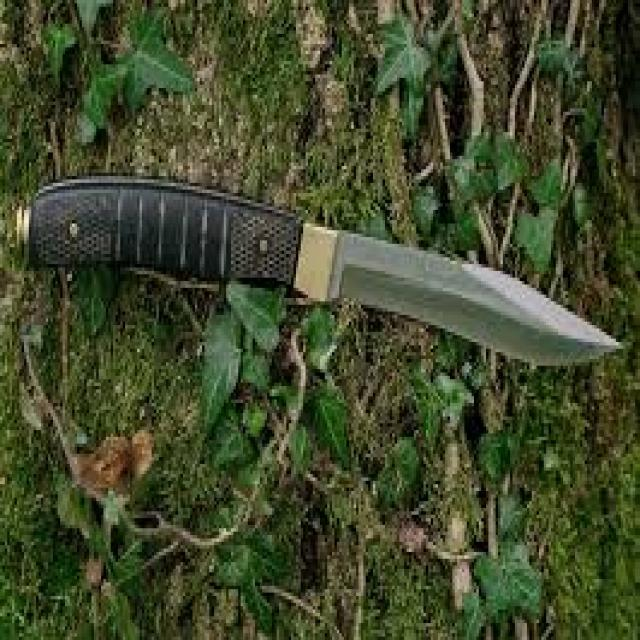knives: (28, 129, 622, 407)
